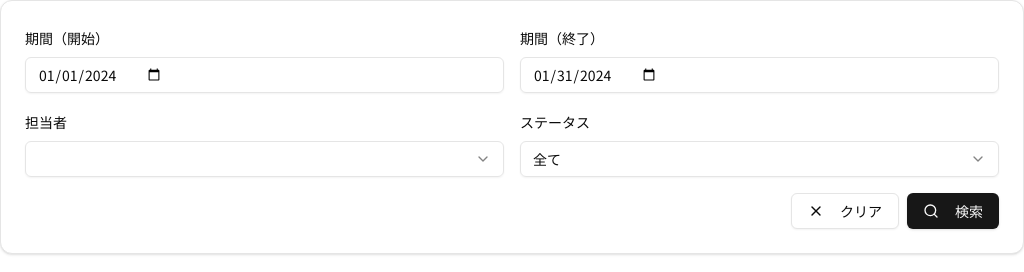
ReportsSearchForm › clear functionality › should reset form fields when clear button is clicked
Click the button "クリア".
click(845, 211)  # box [791, 193, 899, 229]
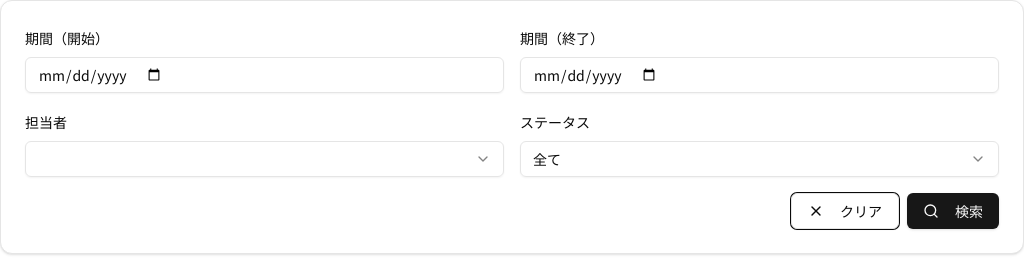
Now the date field labelled "期間（開始）" is empty, box [25, 57, 504, 93]
Now the date field labelled "期間（終了）" is empty, box [520, 57, 999, 93]
